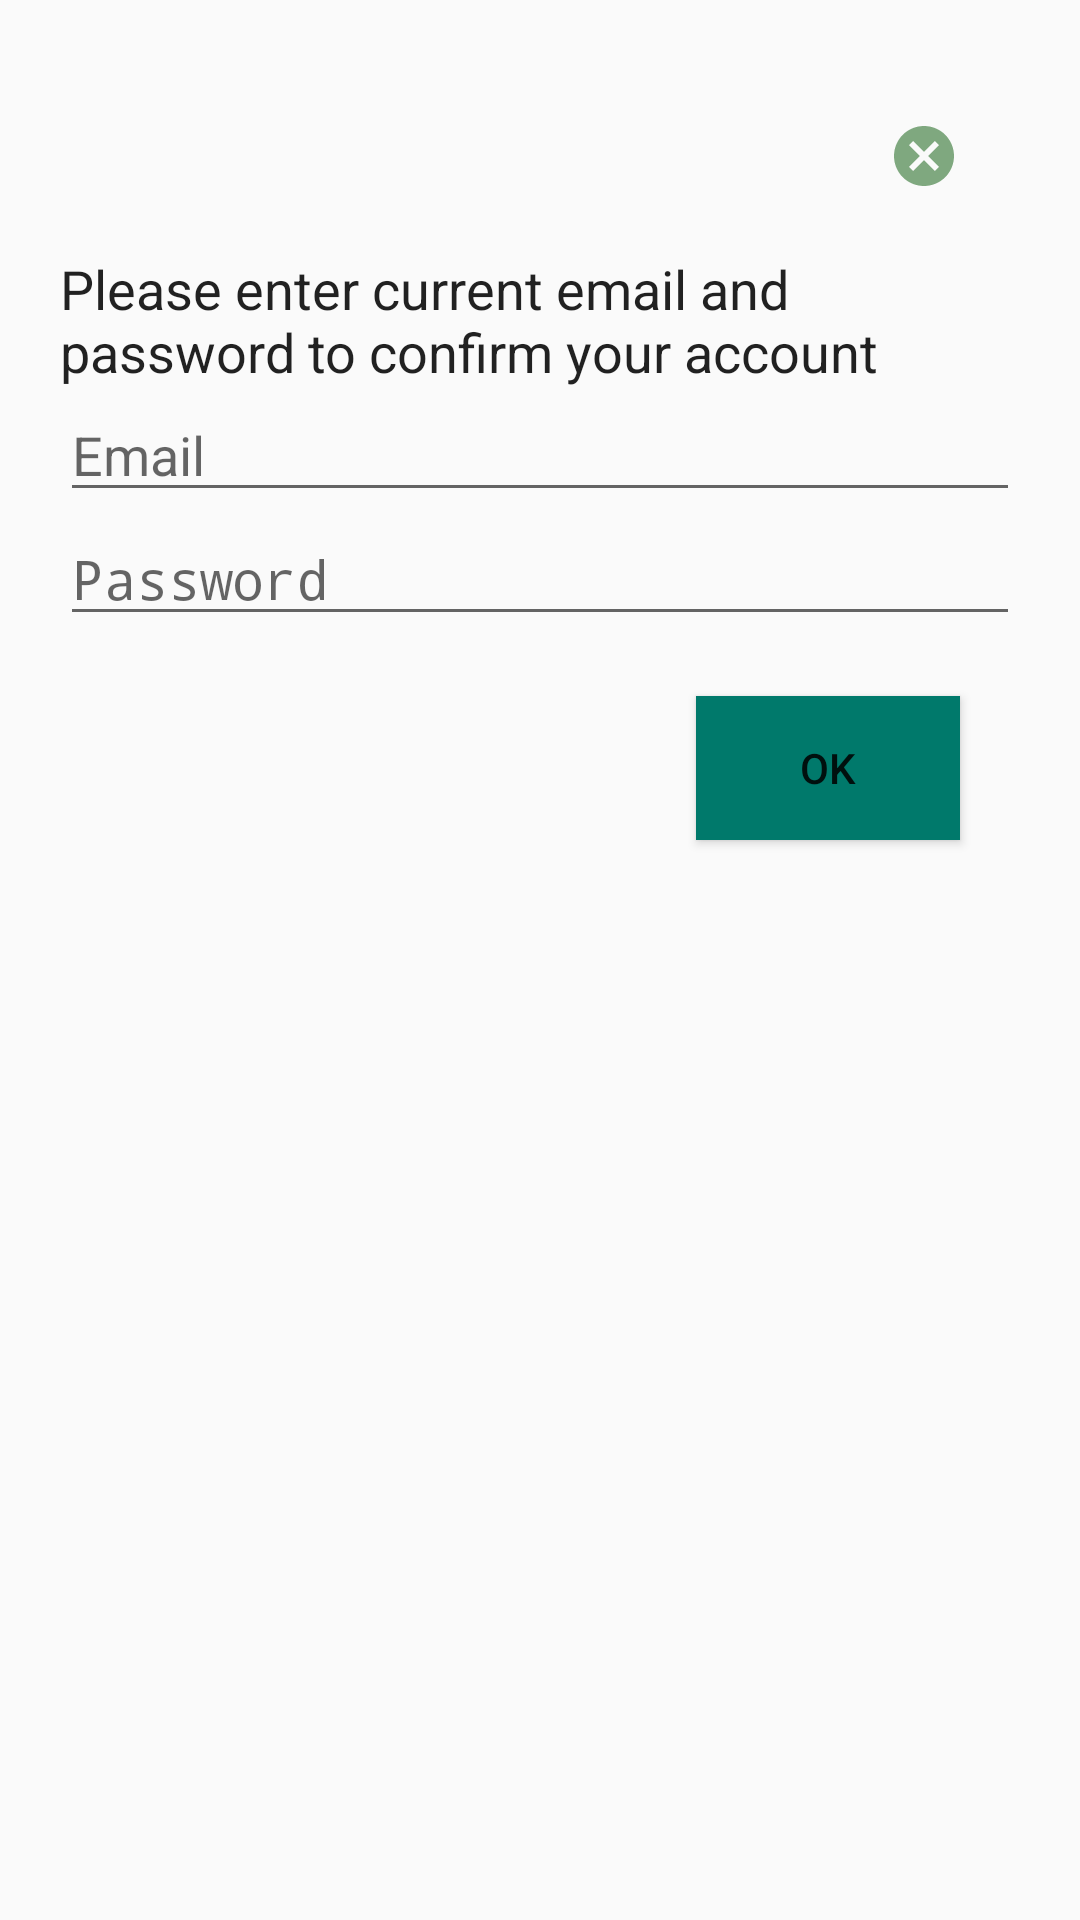

Screen size 1080*1920. Icon name, then its box in pixels as [x1, y1, x2, y2]:
cancel: [894, 126, 954, 186]
